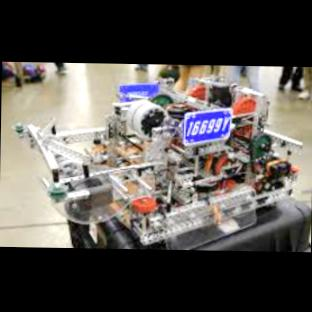Robot: (14, 75, 301, 248)
